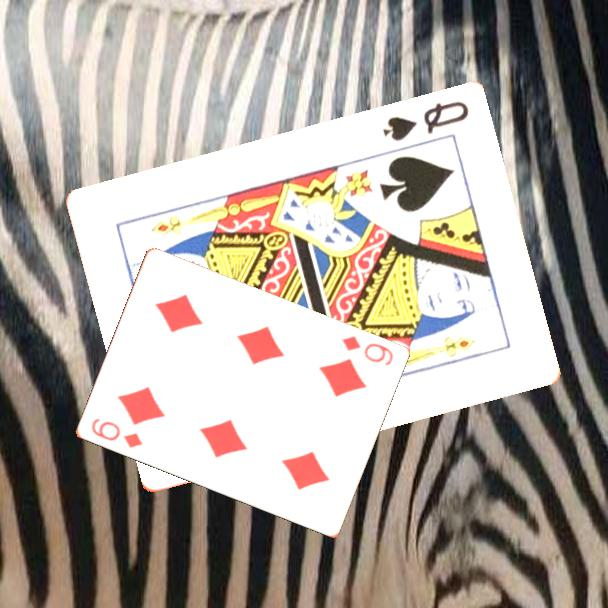d06: (338, 332, 396, 369), (87, 415, 145, 451)
s12: (379, 98, 472, 145)
